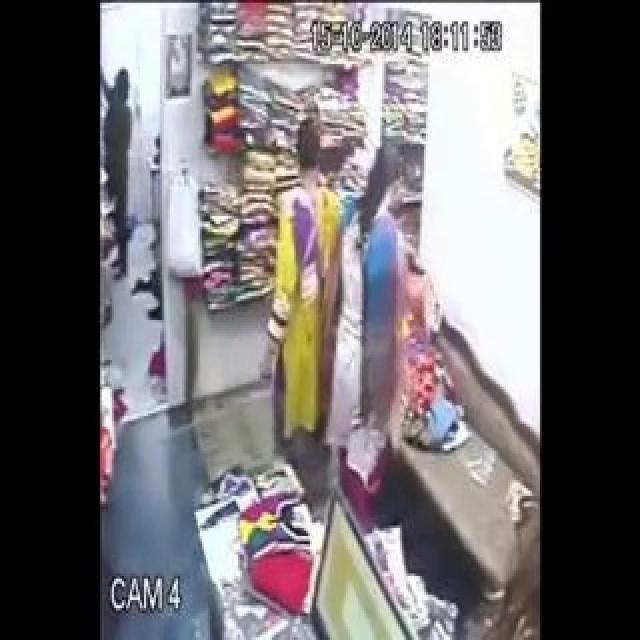Shoplifting: (329, 120, 425, 474)
